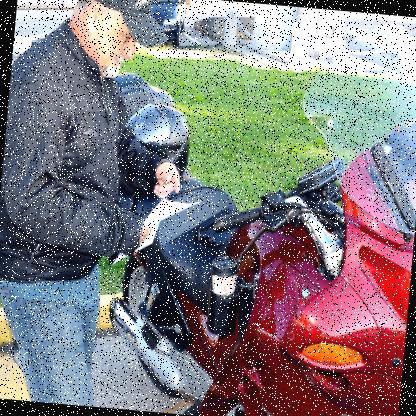Car: (142, 0, 188, 51)
